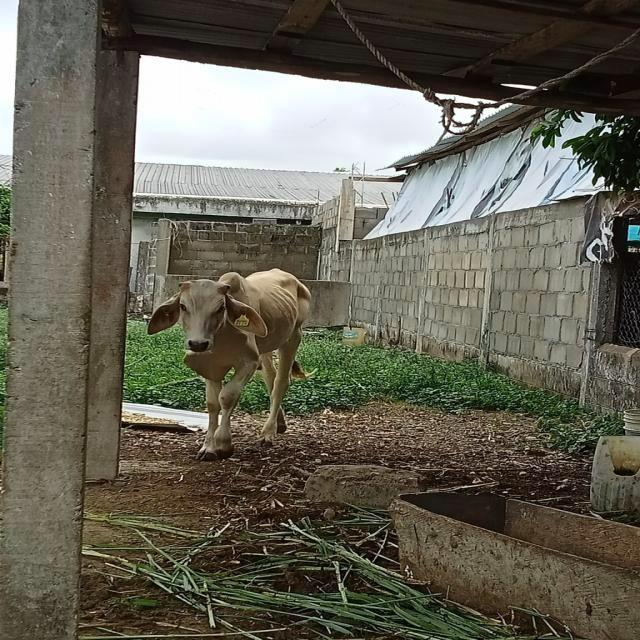cow: (149, 269, 310, 459)
